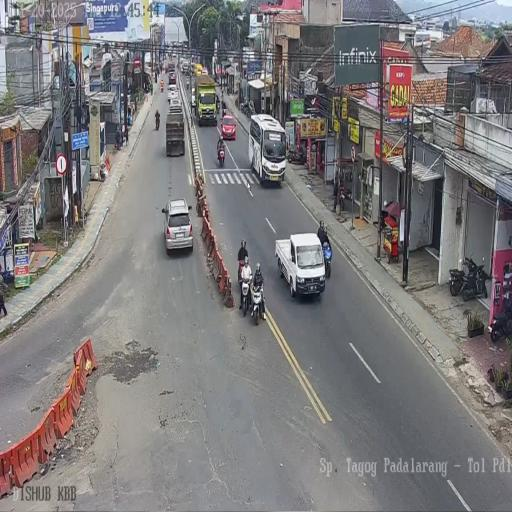car: (162, 199, 194, 256), (221, 114, 236, 140), (167, 84, 179, 108), (168, 71, 176, 85), (191, 91, 196, 112), (196, 62, 202, 76), (201, 67, 208, 76)
motorcycle: (461, 254, 488, 302), (489, 291, 511, 342), (250, 279, 264, 324), (239, 275, 252, 317), (321, 239, 332, 278), (287, 144, 306, 165), (240, 98, 254, 120), (216, 142, 226, 166), (216, 94, 220, 114), (155, 114, 160, 130), (222, 99, 226, 117), (214, 74, 219, 85), (154, 72, 158, 84), (186, 76, 189, 89), (160, 83, 164, 92)
truck: (276, 232, 325, 298), (249, 111, 286, 187), (193, 76, 218, 127), (166, 112, 186, 157), (144, 52, 152, 74), (180, 60, 189, 74)
